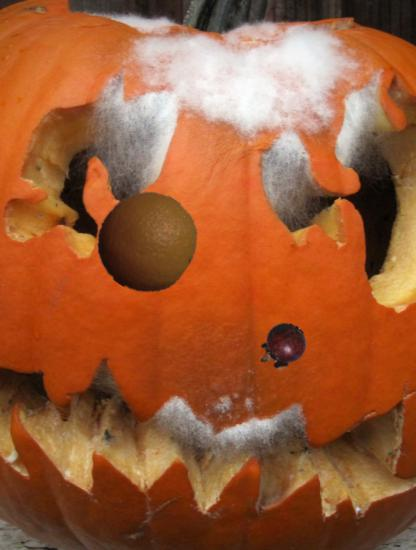Mangostan: (257, 322, 308, 373)
Orange: (96, 191, 198, 293)
